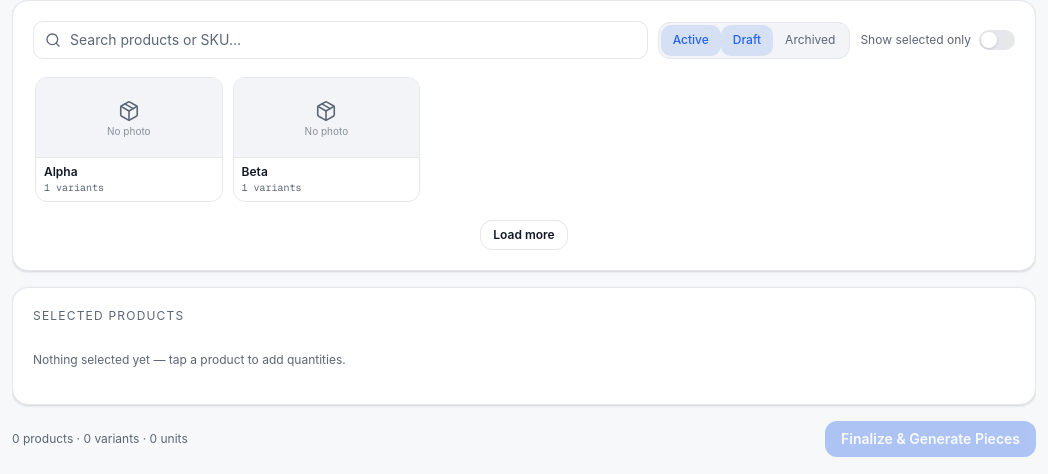
Scenario: cf3: Receiving loads one server page, searches on the server, and "load more" appends the next page
Expected: the button with test id "product-card-p1" is shown, [35, 77, 223, 202]
Step 1. Click the button "Load more" → (524,235), box [480, 220, 568, 250]
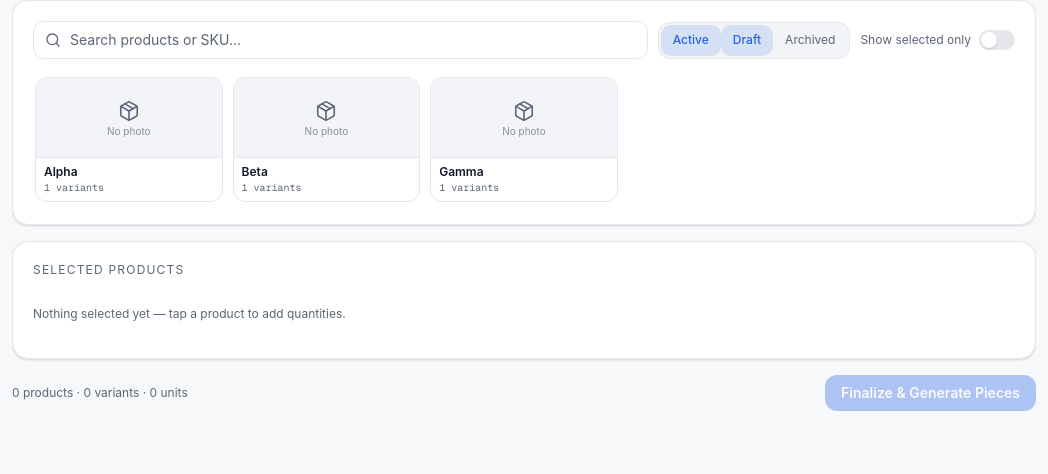
Expected: the button with test id "product-card-p1" is shown, [35, 77, 223, 202]
Expected: the button with test id "product-card-p3" is shown, [430, 77, 618, 202]
Step 2. Type "bet" into the field with placeholder "Search products or SKU…" → (340,40), box [33, 21, 648, 59]
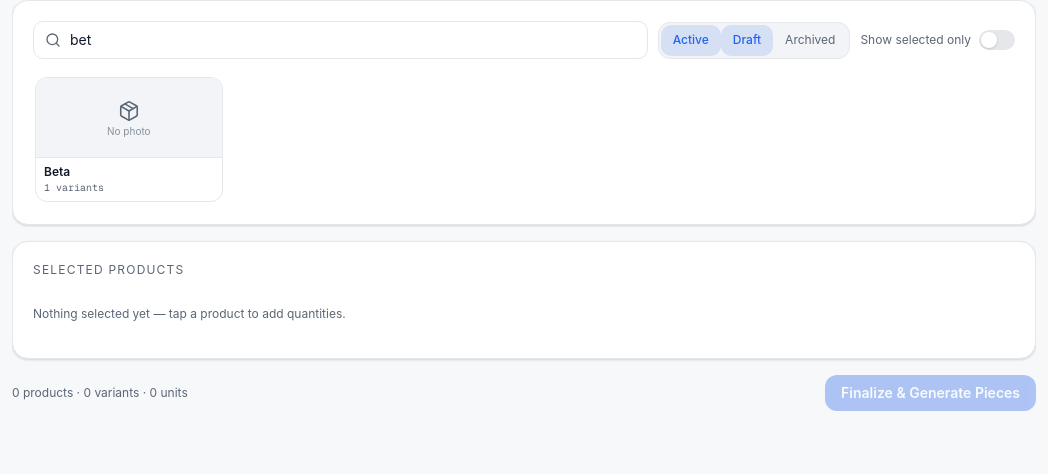
Expected: the button with test id "product-card-p2" is shown, [35, 77, 223, 202]
Expected: the button with test id "product-card-p1" is gone
